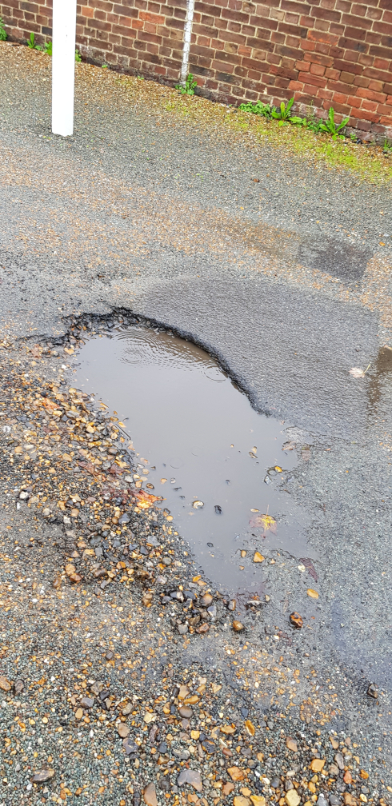pothole: (25, 302, 315, 607)
